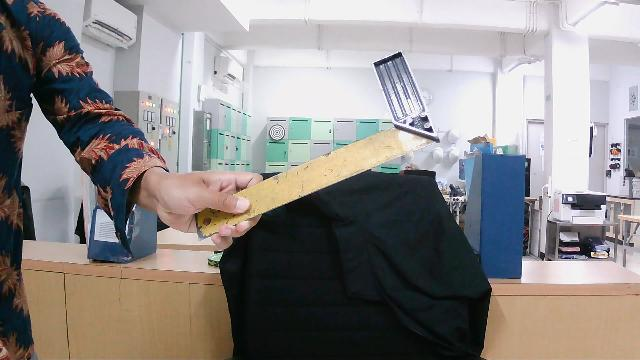penggaris_siku: (189, 51, 444, 242)
